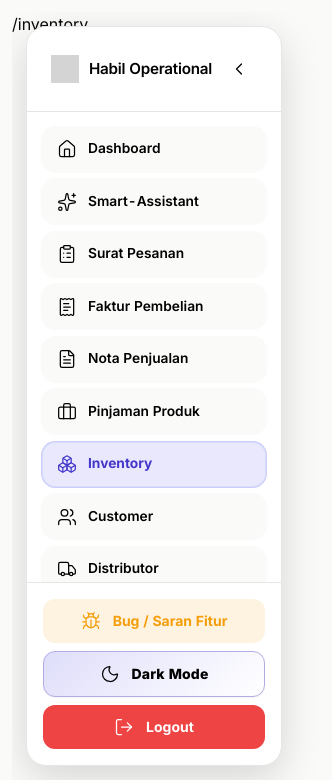
Test: Sidebar shell smoke › logout clears local token and returns to login
Click the button "Logout" at (154, 727), box [43,705,265,749]
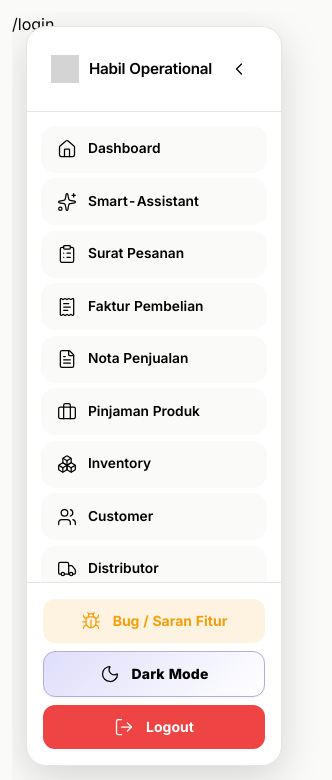
Expected: the text with test id "current-path" reads "/login", [12,14,54,34]
